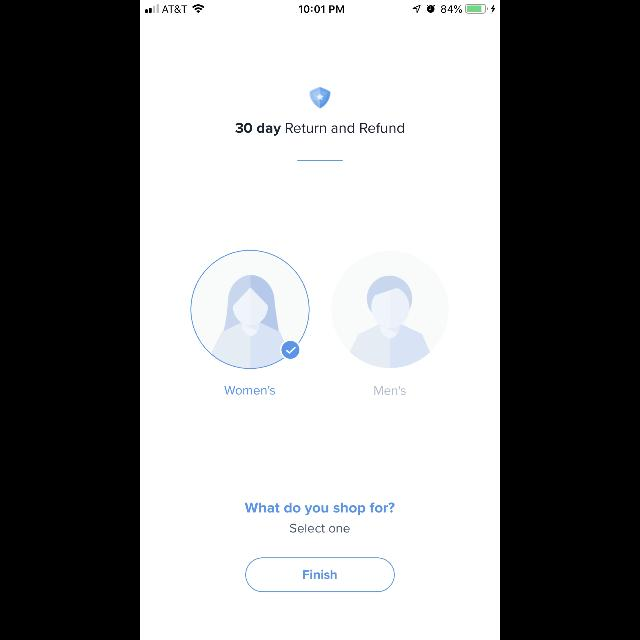icon: (280, 339, 300, 359)
image: (190, 250, 310, 370), (332, 250, 448, 368), (310, 87, 330, 109)
text: (236, 122, 404, 136), (245, 502, 395, 516), (290, 524, 350, 532), (224, 386, 276, 394), (374, 386, 406, 394)
textbutton: (245, 558, 395, 592)
uppertaskbar: (140, 0, 500, 14)
